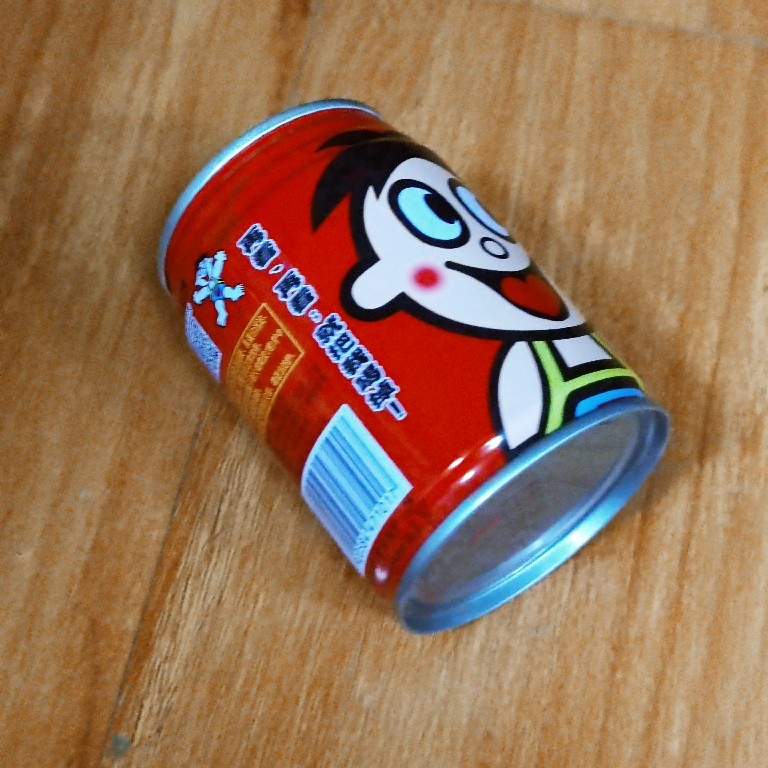can: (155, 96, 672, 637)
